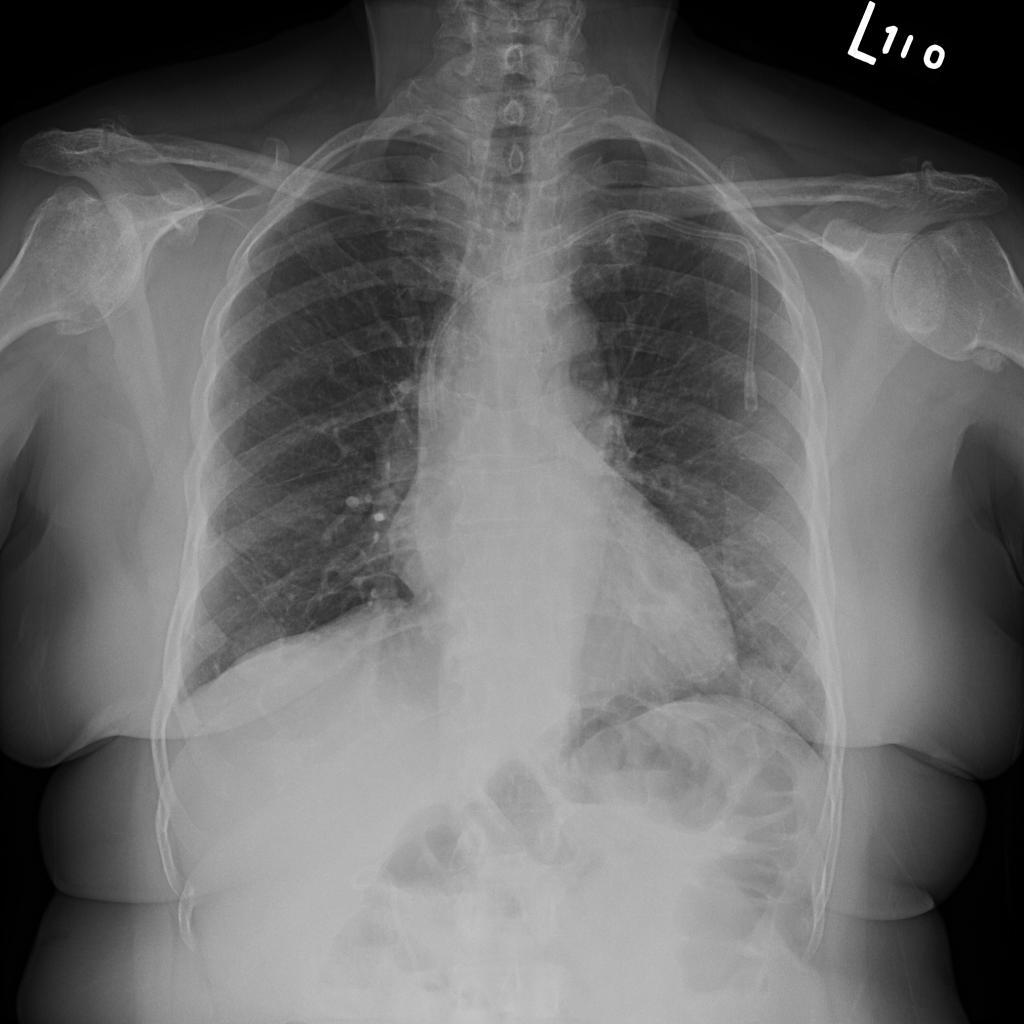Nodule: (121, 314, 153, 344), (379, 336, 405, 363)
